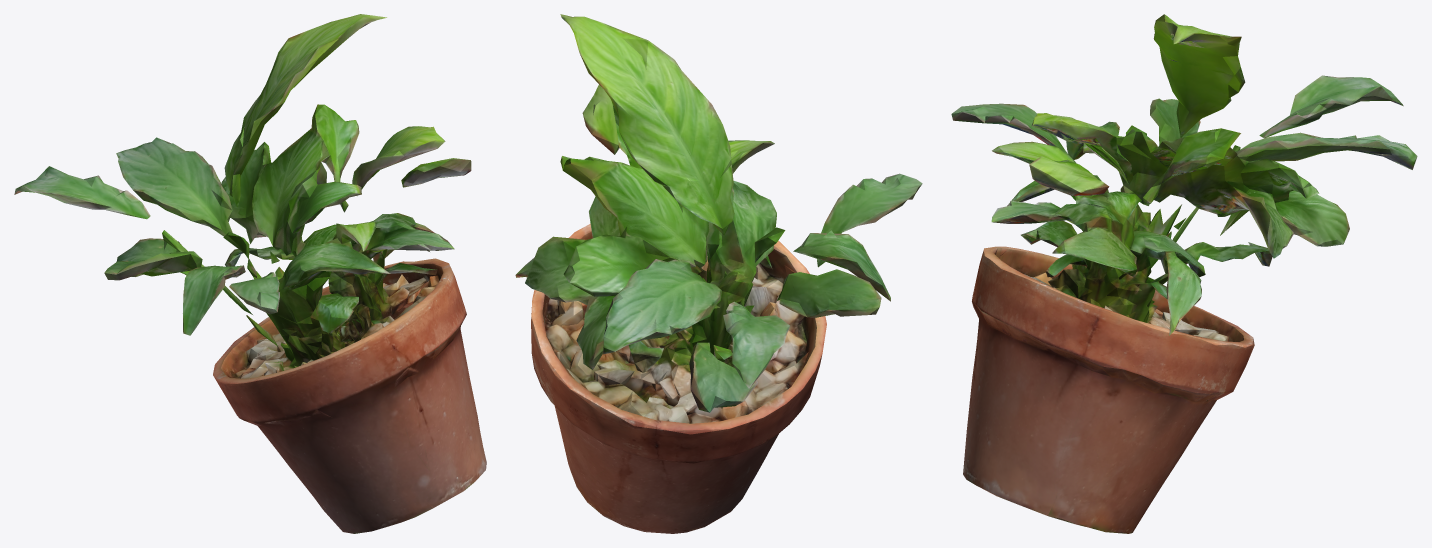
File: pflanze.glb
3 views of the same model, side by side, from view 1: azimuth 30°, elevation 25°; view 2: azimuth 150°, elevation 25°; view 3: azimuth 270°, elevation 25° (orthographic). The views are drawn at different scales.
Visible parts, largest first — view 1: PEACE_LILLY_5K; view 2: PEACE_LILLY_5K; view 3: PEACE_LILLY_5K.
Part boxes in pixels (<box>): PEACE_LILLY_5K: <box>14,14,486,533</box>; PEACE_LILLY_5K: <box>515,14,922,533</box>; PEACE_LILLY_5K: <box>951,14,1417,533</box>.
Size of the model in its own units: 0.305 by 0.4196 by 0.344.
1 material, 1 textured.
